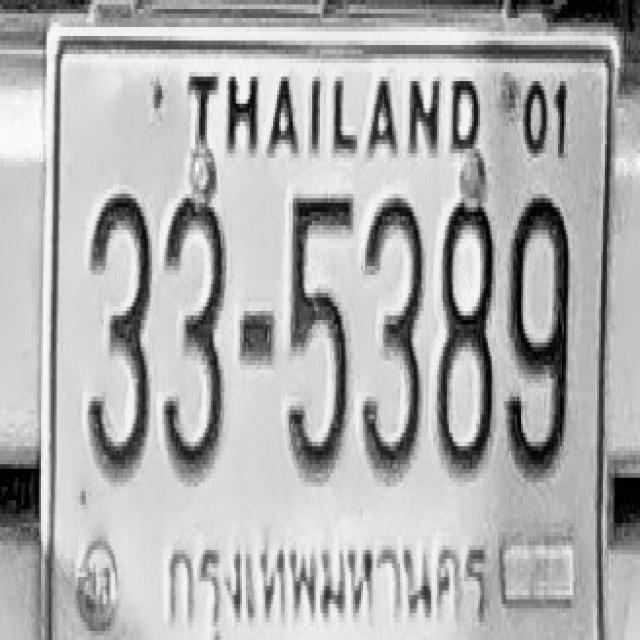3: (87, 192, 151, 480), (163, 187, 225, 480), (361, 194, 423, 478)
5: (288, 190, 354, 482)
8: (436, 196, 493, 476)
9: (506, 194, 569, 478)
Bangkok: (160, 521, 496, 640)
